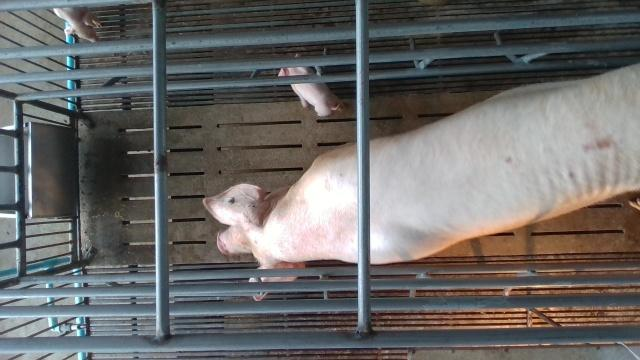piglet: (278, 53, 345, 117), (53, 7, 103, 43)
sow-stand: (202, 65, 640, 301)
